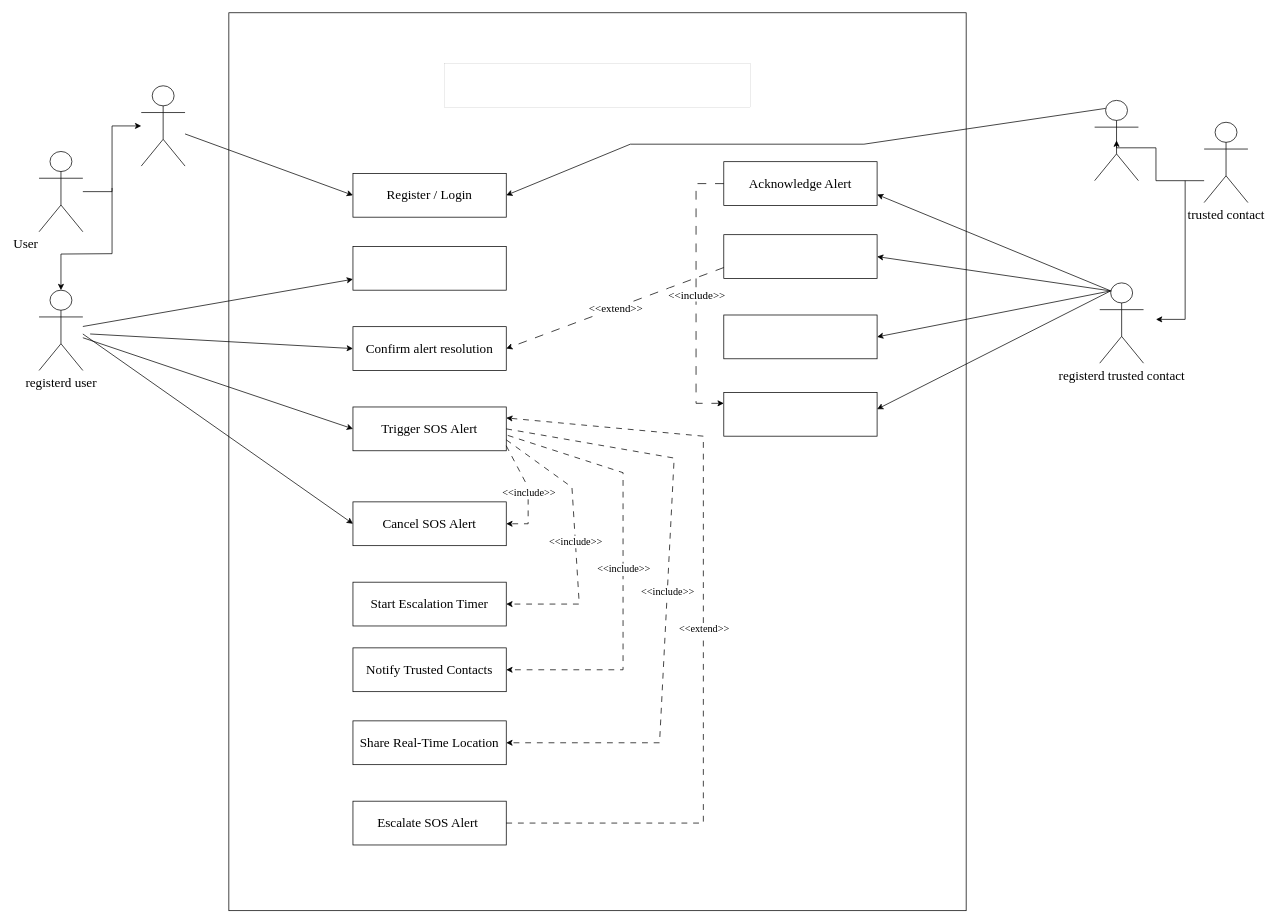
Some shapes in this 1277 by 923 pixel diagram are drawn without their labels. Each missing label, with the centre of its shape:
"Manage Trusted Contacts" goes at point 429,268.
"Personal Safety Emergency Alert System" goes at point 597,85.
"Request SOS Alert Resolution" goes at point 800,256.
"unregisterd trusted contact" goes at point 1116,140.
"unregistered user" goes at point 163,125.
"View SOS Status" goes at point 800,336.
"View user location" goes at point 800,414.
